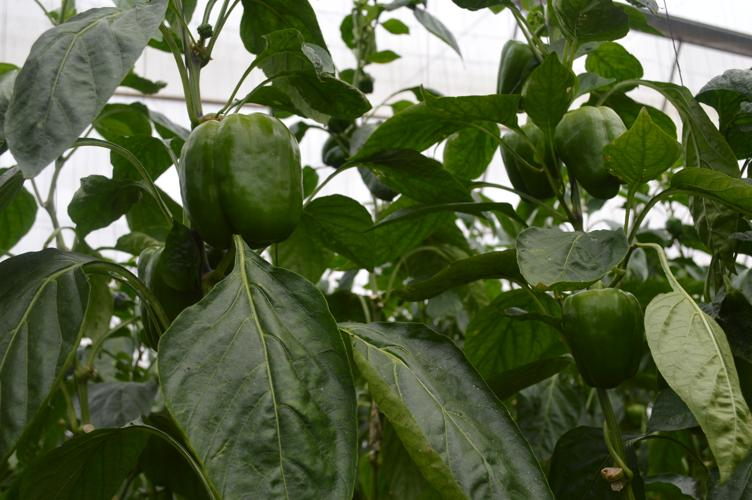BellPepper: (176, 112, 309, 250), (560, 285, 652, 408), (552, 93, 637, 206), (496, 115, 564, 214)
